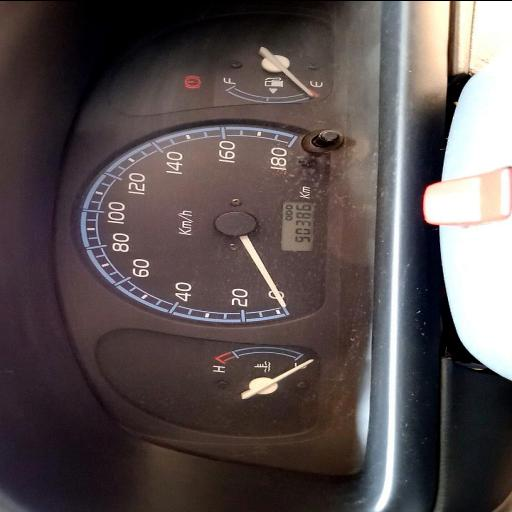brake_system_fault: (184, 75, 202, 87)
